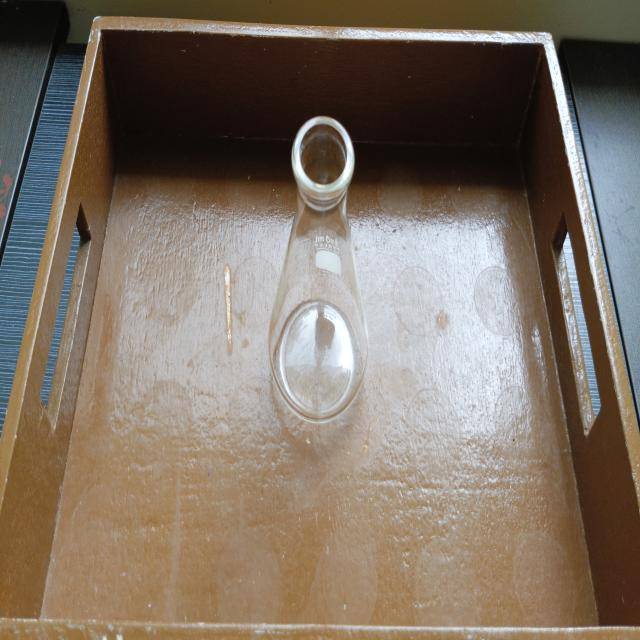erlenmeyer_flask: (263, 103, 376, 436)
